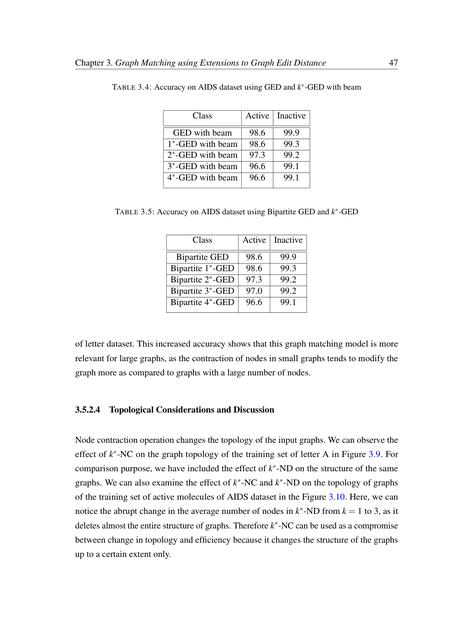box: (161, 108, 314, 192), (165, 232, 309, 316)
